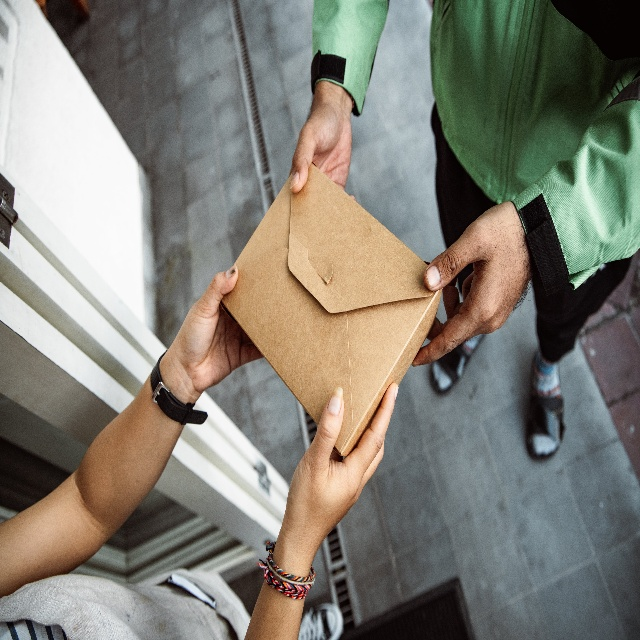Sin_guantes: (280, 381, 398, 542), (403, 208, 534, 353), (172, 282, 263, 378), (284, 104, 356, 197)
